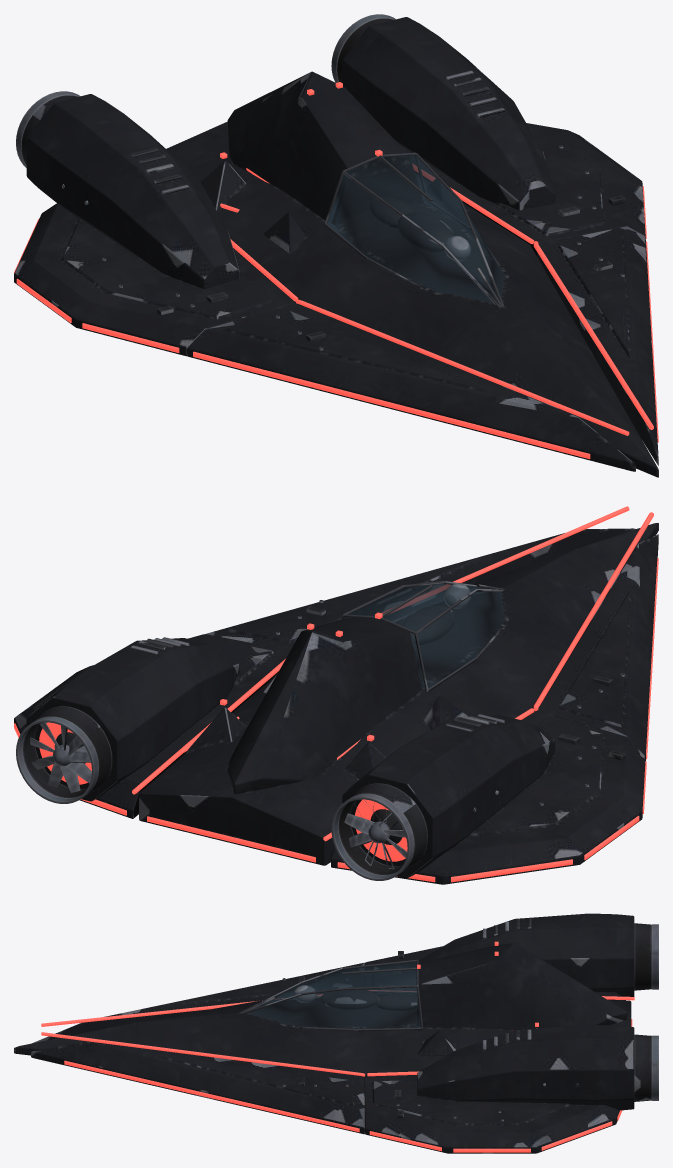
The model's file is wraith.glb.
3 renders of one model, top to bottom at view 1: azimuth 30°, elevation 25°; view 2: azimuth 150°, elevation 25°; view 3: azimuth 270°, elevation 25°, orthographic. The views are drawn at different scales.
Parts seen in each view (by area): view 1: wraith_body, canopy, wraith_emissive; view 2: wraith_body, wraith_emissive, canopy, fan_L, fan_R; view 3: wraith_body, canopy, wraith_emissive.
Part boxes in pixels (<box>): wraith_body: <box>14,14,658,477</box>; canopy: <box>327,155,505,303</box>; wraith_emissive: <box>14,82,658,459</box>; wraith_body: <box>14,523,658,884</box>; wraith_emissive: <box>14,506,658,882</box>; canopy: <box>344,583,505,689</box>; fan_L: <box>30,722,91,792</box>; fan_R: <box>344,800,407,869</box>; wraith_body: <box>14,913,658,1153</box>; canopy: <box>247,961,420,1028</box>; wraith_emissive: <box>41,941,634,1152</box>.
Bounding box in the file's own units: 3.17 × 0.8174 × 4.31.
5 materials, 2 textured.
